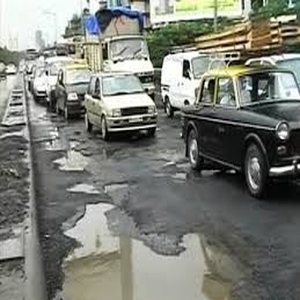pothole: (51, 197, 261, 300), (46, 155, 96, 175), (64, 182, 135, 196)
